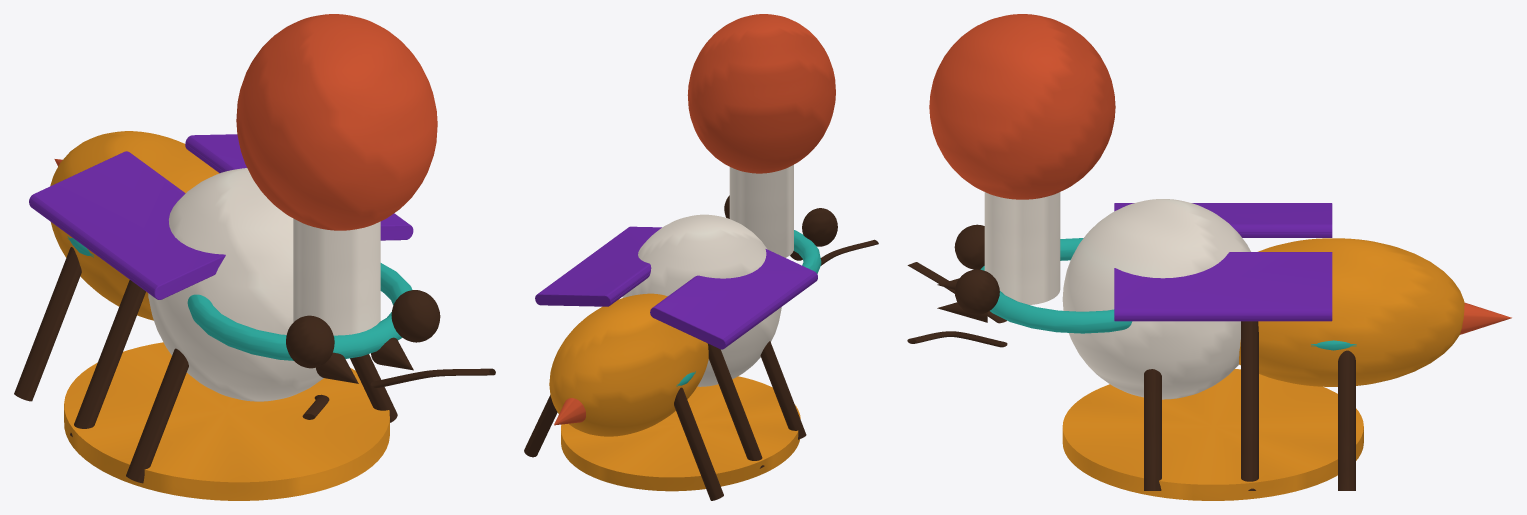
Rendered from 0620_蘑菇图鉴_毒蝇鹅膏.glb.
The picture shows the model from 3 angles, left to right: view 1: azimuth 30°, elevation 25°; view 2: azimuth 150°, elevation 25°; view 3: azimuth 270°, elevation 25°; orthographic projection. The views are drawn at different scales.
Parts seen in each view (by area): view 1: card_0620; view 2: card_0620; view 3: card_0620.
Boxes of the visible parts, left/top/right/bottom form: card_0620: left=14, top=14, right=495, bottom=500; card_0620: left=524, top=14, right=878, bottom=500; card_0620: left=907, top=14, right=1511, bottom=500.
Size of the model in its own units: 0.5927 by 1 by 1.3.
